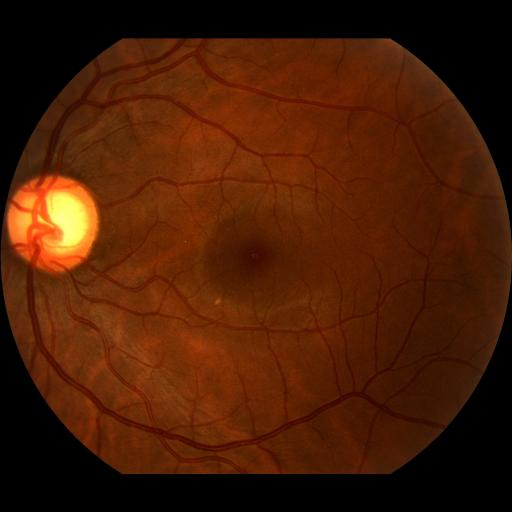Optic Cup: (35, 192, 88, 249)
Optic Disc: (7, 173, 98, 275)
